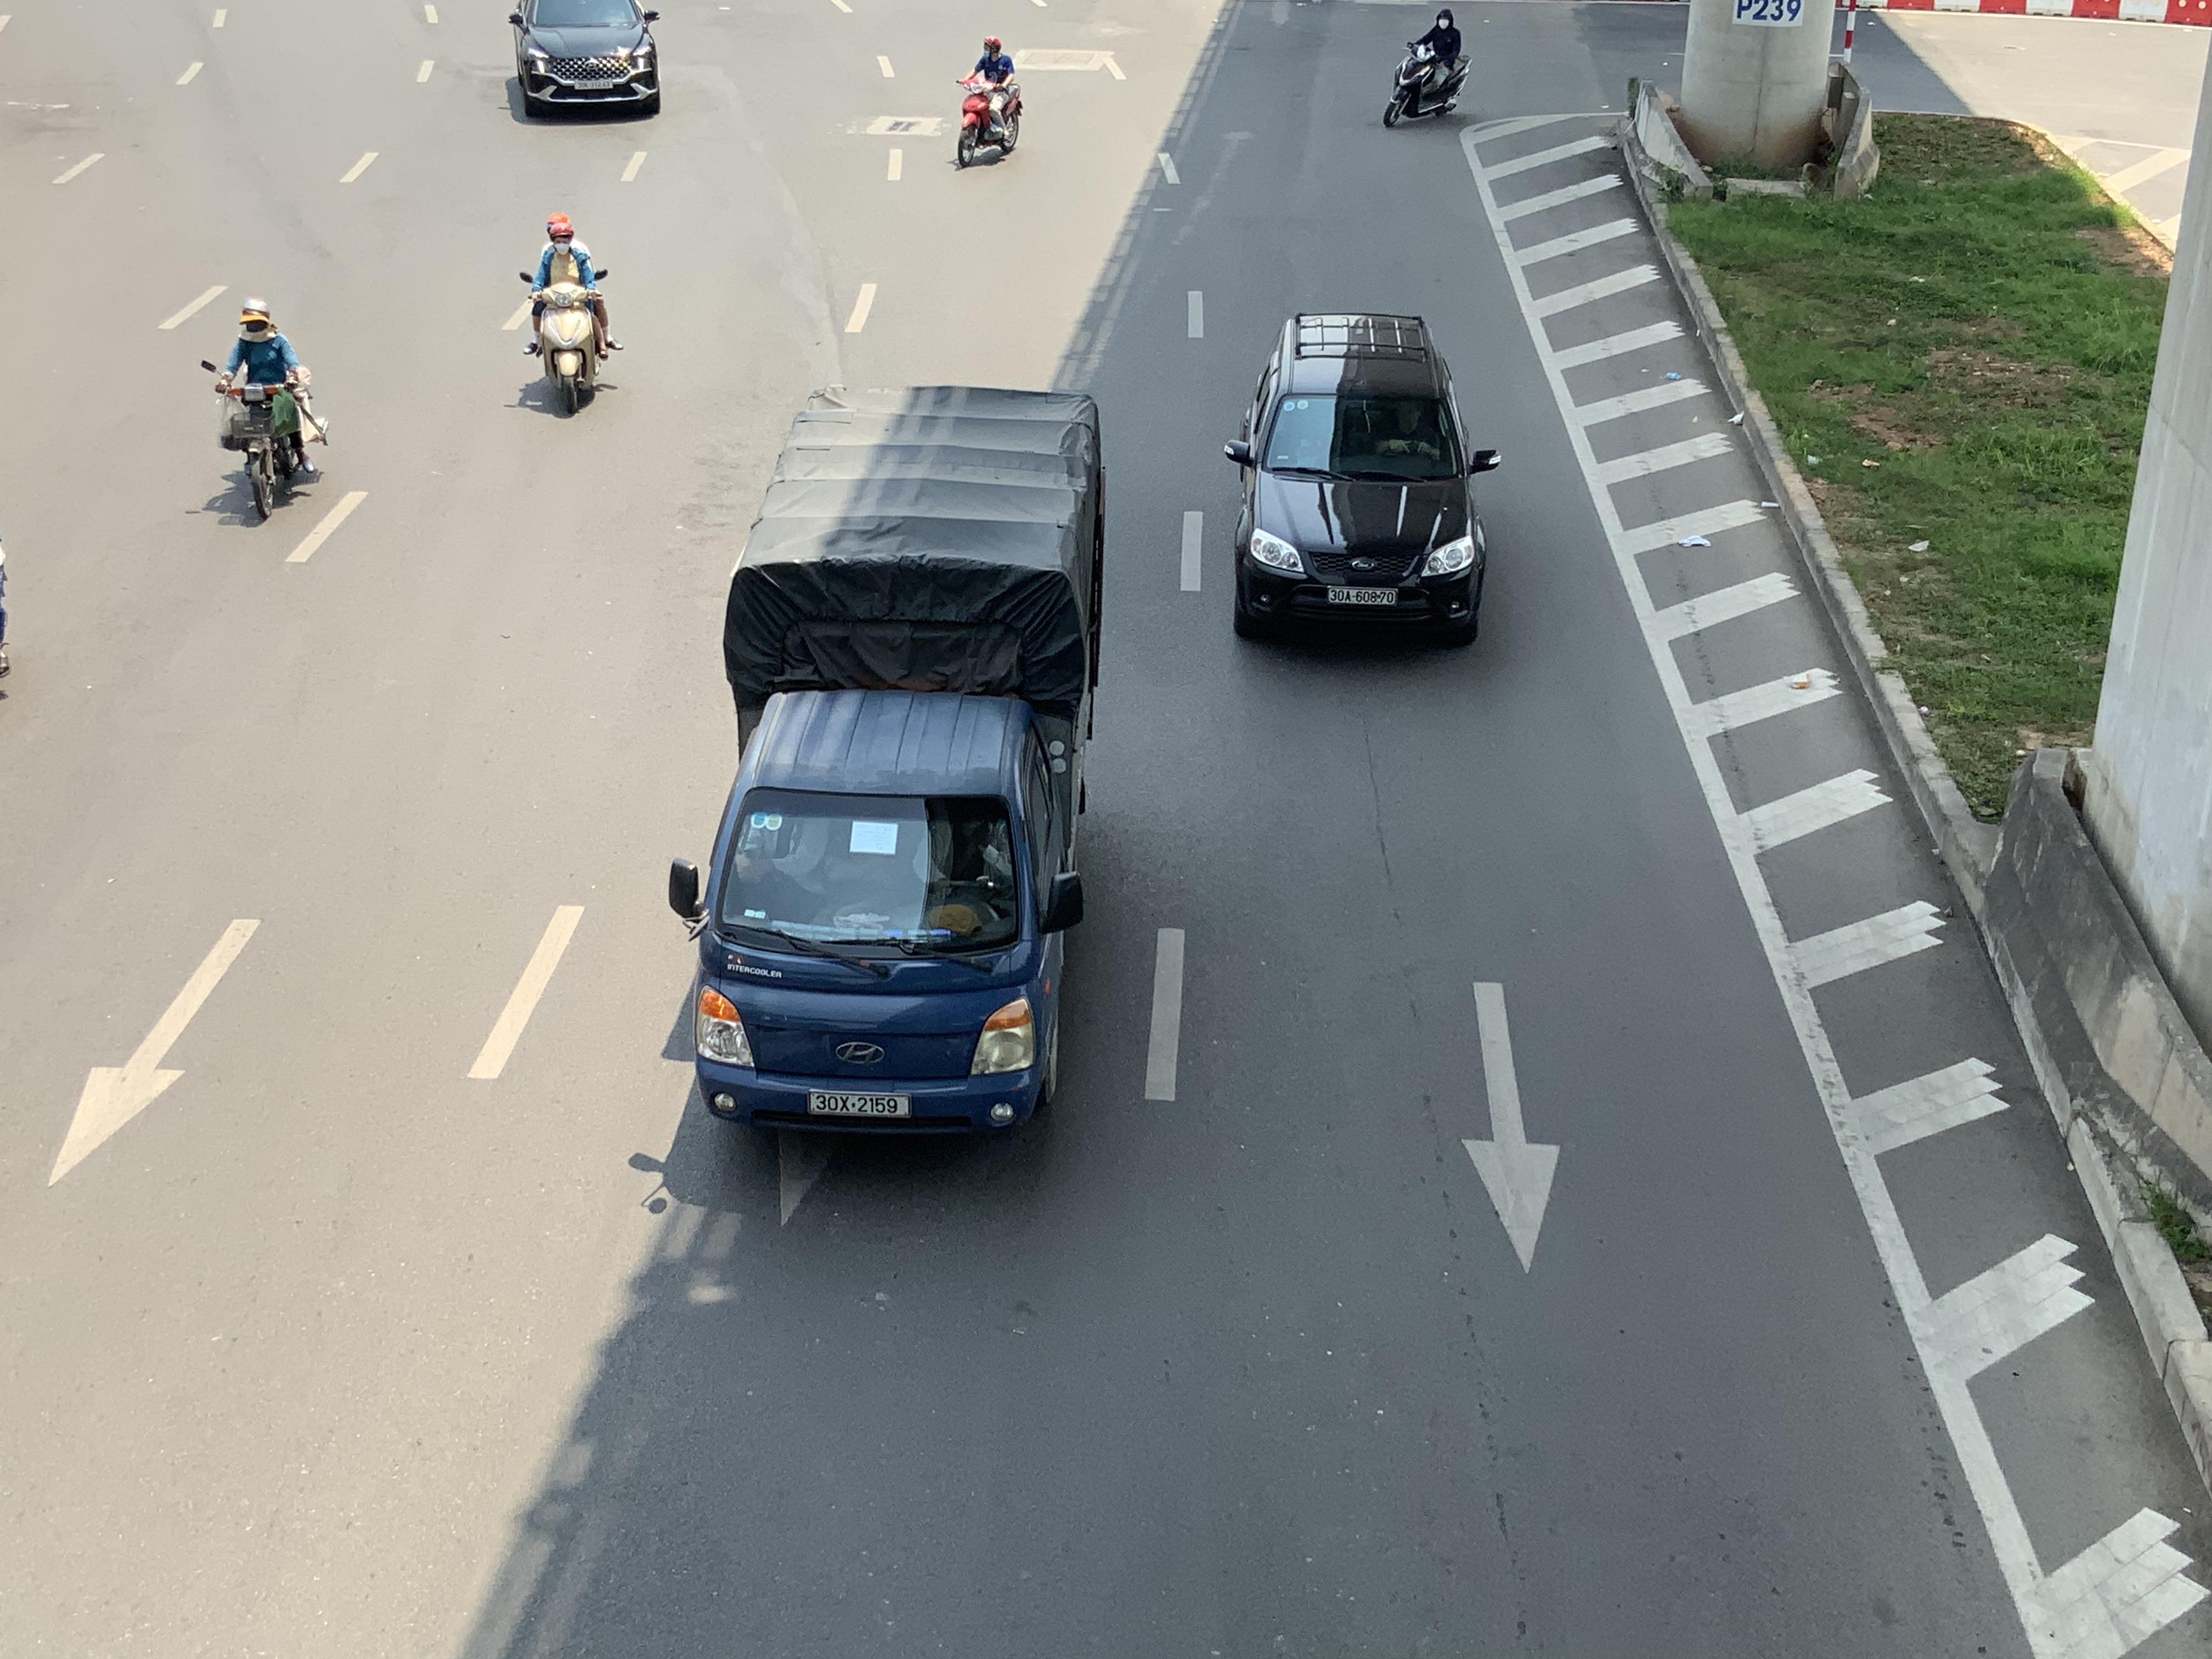BSD: (810, 1091, 911, 1117), (1327, 587, 1397, 605), (575, 80, 613, 91)
car: (1221, 310, 1501, 650), (507, 0, 662, 120)
motorbike: (206, 296, 322, 526), (523, 213, 613, 415), (1383, 7, 1470, 127), (954, 35, 1022, 169)
truck: (667, 382, 1113, 1141)
